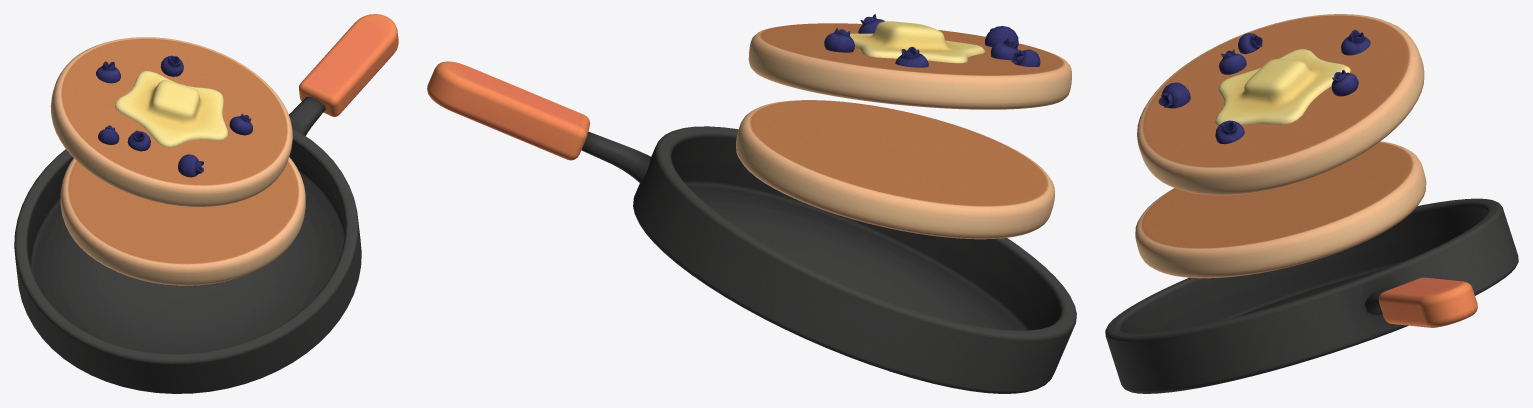
File: pancakes_PanAction.glb
3 renders of one model, left to right at view 1: azimuth 30°, elevation 25°; view 2: azimuth 150°, elevation 25°; view 3: azimuth 270°, elevation 25°, orthographic. The views are drawn at different scales.
Visible parts, largest first — view 1: pan, pancake_01, pancake_02, butter, blueberry_02, blueberry_04, blueberry_05, blueberry_06, blueberry_01; view 2: pan, pancake_02, pancake_01, butter, blueberry_05; view 3: pan, pancake_01, pancake_02, butter, blueberry_02, blueberry_05, blueberry_06, blueberry_04, blueberry_01, blueberry_03.
Boxes of the visible parts, x1,y1,x2,y2 form: pan: (14, 14, 398, 393); pancake_01: (50, 37, 292, 207); pancake_02: (60, 157, 305, 285); butter: (115, 71, 227, 147); blueberry_02: (178, 154, 203, 177); blueberry_04: (96, 61, 120, 83); blueberry_05: (160, 55, 183, 76); blueberry_06: (229, 113, 252, 135); blueberry_01: (127, 130, 150, 151); pan: (427, 61, 1076, 393); pancake_02: (736, 100, 1054, 239); pancake_01: (748, 23, 1071, 109); butter: (850, 21, 984, 63); blueberry_05: (824, 28, 854, 52); pan: (1105, 198, 1518, 393); pancake_01: (1137, 14, 1424, 195); pancake_02: (1135, 141, 1426, 278); butter: (1215, 49, 1350, 125); blueberry_02: (1158, 82, 1190, 108); blueberry_05: (1331, 70, 1358, 96); blueberry_06: (1215, 120, 1244, 144); blueberry_04: (1341, 30, 1370, 55); blueberry_01: (1219, 49, 1246, 74); blueberry_03: (1238, 33, 1262, 53).
Size of the model in its own units: 36.46 by 22.86 by 26.12.
Materials: 1 (1 with a texture image).
